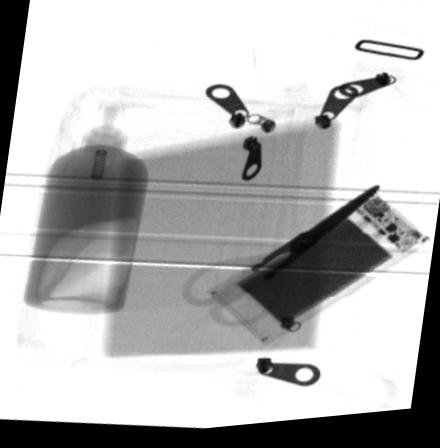Powerbank: (208, 200, 428, 353)
Scissors: (178, 186, 385, 331)
